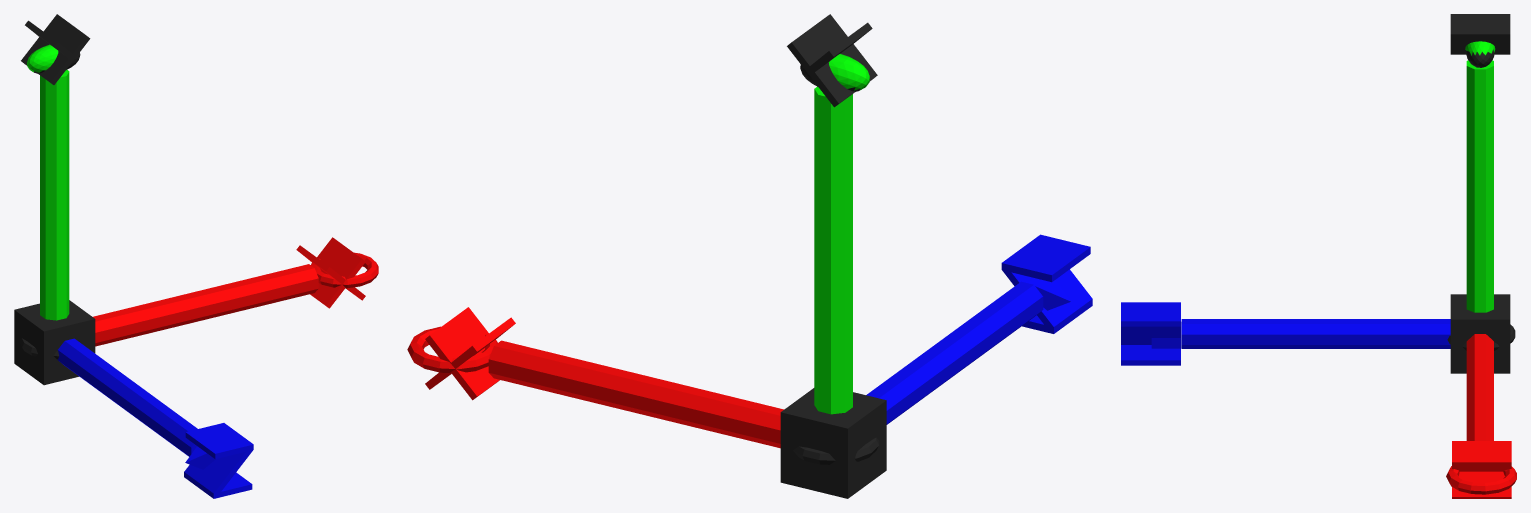
File: axis.obj
3 views of the same model, side by side, from view 1: azimuth 30°, elevation 25°; view 2: azimuth 150°, elevation 25°; view 3: azimuth 270°, elevation 25° (orthographic). The views are drawn at different scales.
Visible parts, largest first — view 1: all/y.r, all/x.r, all/z.r, arb8, axis/Z.r, axis/X.r, axis/Y.r, all/xx.r, all/yy.r; view 2: all/y.r, all/x.r, arb8, all/z.r, axis/Z.r, axis/X.r, axis/Y.r, all/xx.r, all/yy.r, tor; view 3: all/z.r, all/y.r, axis/Z.r, arb8, all/x.r, axis/X.r, axis/Y.r, all/xx.r.
Part boxes in pixels (bbox=[...]): all/y.r: bbox=[40, 70, 69, 320]; all/x.r: bbox=[93, 264, 318, 346]; all/z.r: bbox=[57, 338, 197, 456]; arb8: bbox=[14, 300, 95, 385]; axis/Z.r: bbox=[184, 423, 253, 498]; axis/X.r: bbox=[296, 237, 365, 308]; axis/Y.r: bbox=[21, 14, 90, 84]; all/xx.r: bbox=[311, 252, 378, 288]; all/yy.r: bbox=[27, 44, 58, 72]; all/y.r: bbox=[814, 86, 852, 414]; all/x.r: bbox=[488, 340, 783, 448]; arb8: bbox=[780, 388, 886, 498]; all/z.r: bbox=[866, 281, 1043, 424]; axis/Z.r: bbox=[1001, 234, 1092, 333]; axis/X.r: bbox=[425, 307, 515, 400]; axis/Y.r: bbox=[787, 14, 877, 107]; all/xx.r: bbox=[407, 326, 497, 372]; all/yy.r: bbox=[828, 54, 869, 90]; tor: bbox=[793, 437, 879, 464]; all/z.r: bbox=[1181, 319, 1450, 348]; all/y.r: bbox=[1466, 60, 1493, 312]; axis/Z.r: bbox=[1121, 302, 1180, 365]; arb8: bbox=[1450, 294, 1510, 373]; all/x.r: bbox=[1466, 334, 1493, 440]; axis/X.r: bbox=[1452, 441, 1511, 498]; axis/Y.r: bbox=[1450, 14, 1510, 54]; all/xx.r: bbox=[1446, 466, 1516, 494].
Size of the model in its own units: 13.66 by 12.62 by 13.26.
